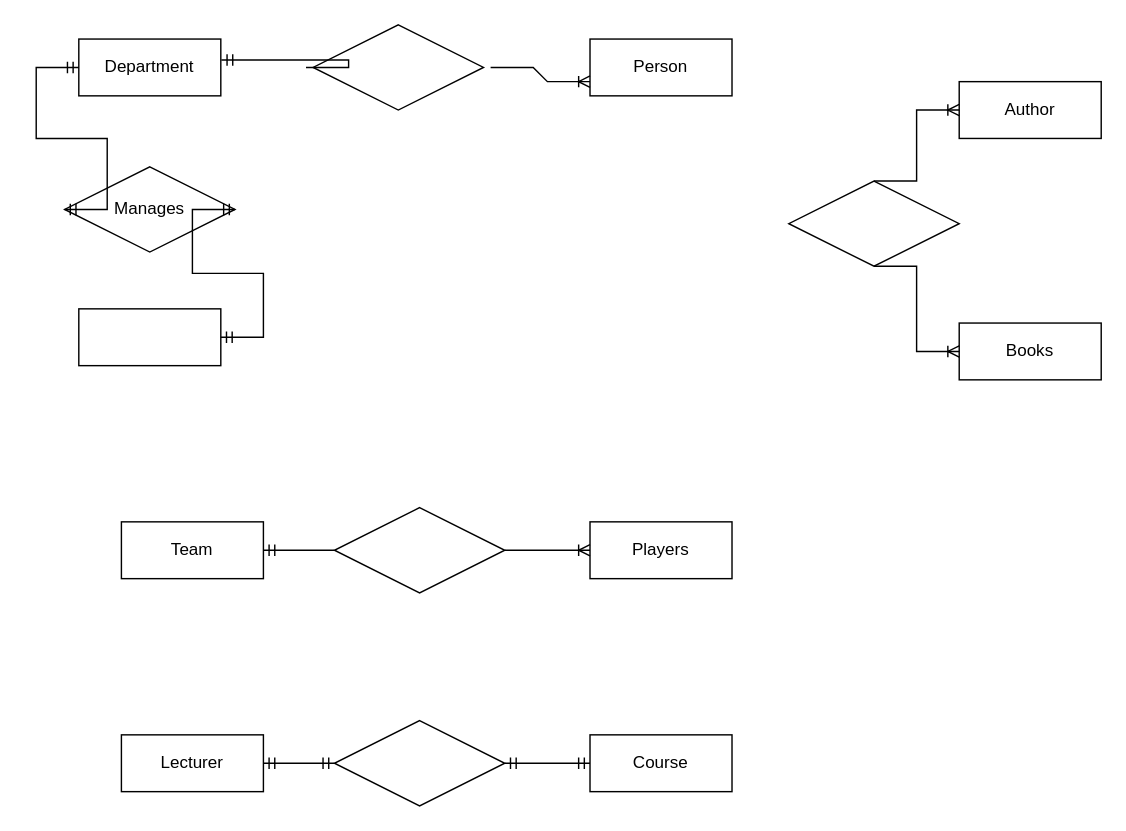
This 1126x831 diagram has some shape labels left out. The centre of each missing label's shape, as x and y in pixels:
Consists of: pixel 419 549
Employs: pixel 398 66
Manager: pixel 149 336
Teached: pixel 419 762
Writes: pixel 873 223
